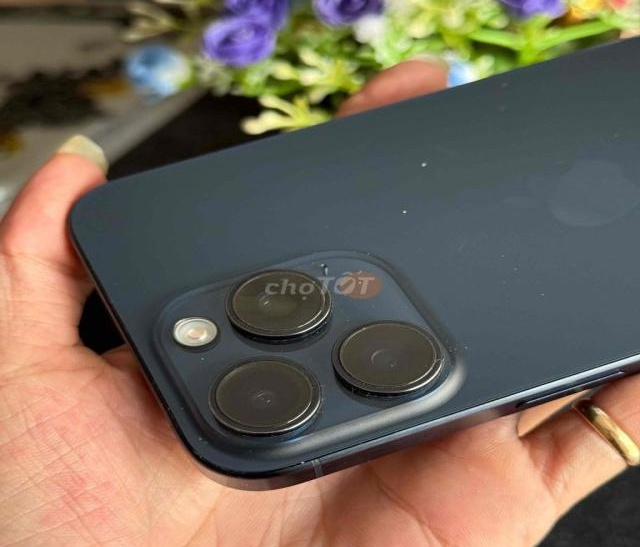scratch: (481, 245, 560, 303), (490, 78, 517, 117), (413, 157, 433, 170), (396, 208, 413, 217)
